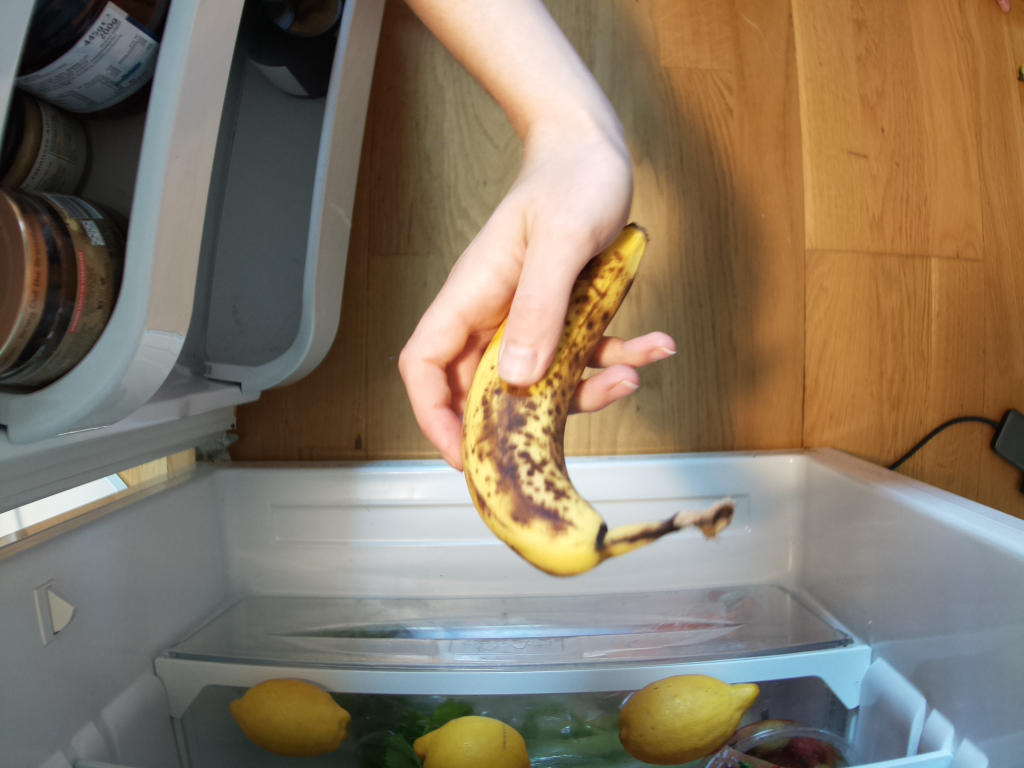banana-overripe: (466, 219, 736, 577)
